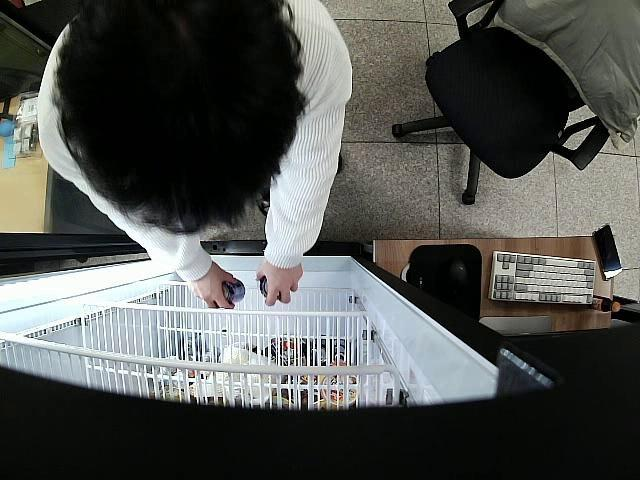14_welchsGrape: (210, 276, 246, 307), (258, 276, 286, 304)
